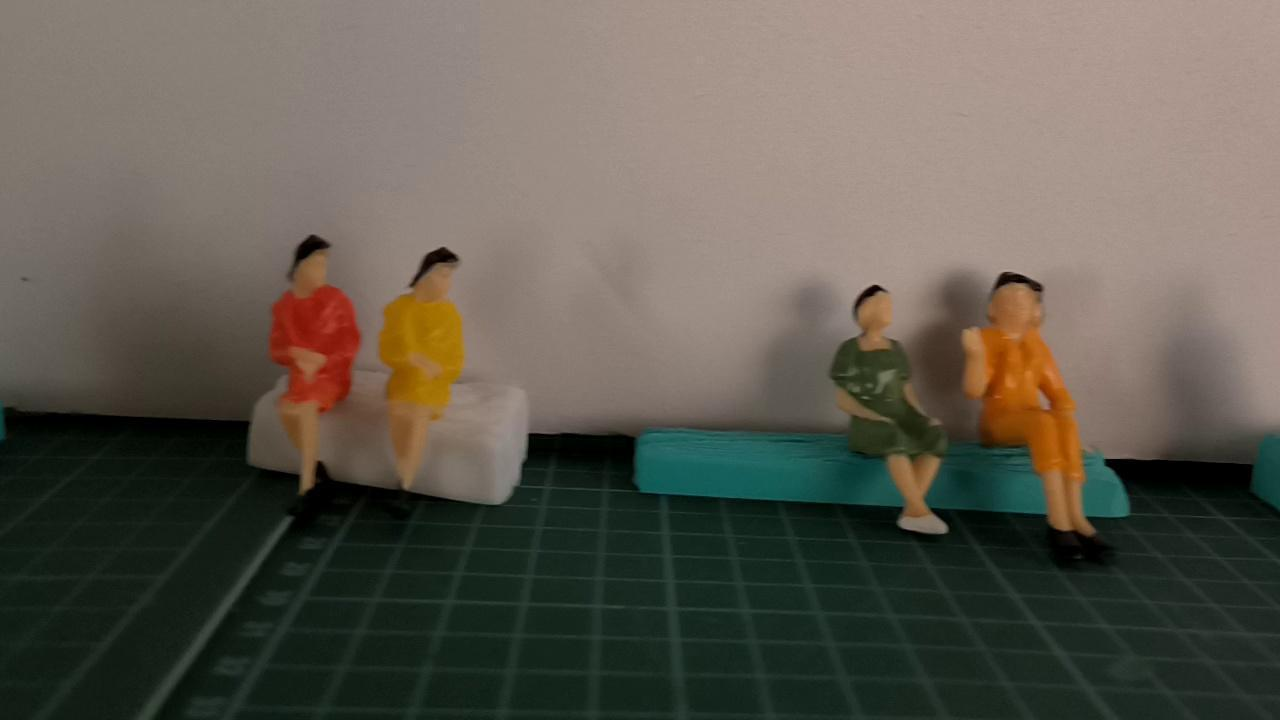human: (961, 269, 1112, 556), (824, 282, 958, 541), (266, 232, 366, 520), (376, 244, 468, 533)
